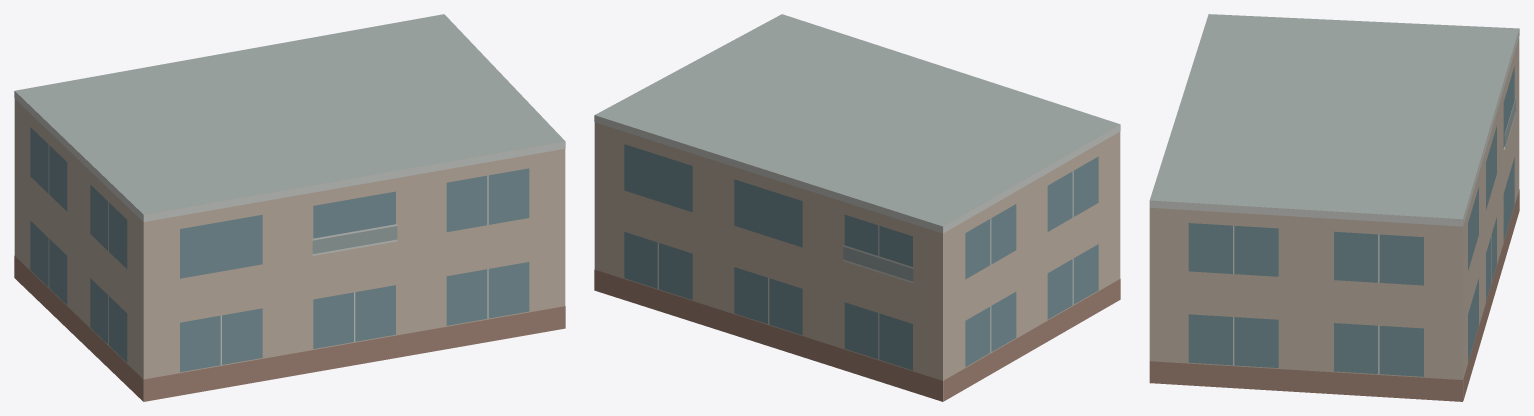
File: survey-upis-32958127.glb
3 renders of one model, left to right at view 1: azimuth 30°, elevation 25°; view 2: azimuth 150°, elevation 25°; view 3: azimuth 270°, elevation 25°, orthographic. The views are drawn at different scales.
Parts seen in each view (by area): view 1: survey-upis-32958127.tmp; view 2: survey-upis-32958127.tmp; view 3: survey-upis-32958127.tmp.
Boxes of the visible parts, x1=… form: survey-upis-32958127.tmp: x1=14, y1=14, x2=565, y2=401; survey-upis-32958127.tmp: x1=594, y1=14, x2=1120, y2=401; survey-upis-32958127.tmp: x1=1149, y1=14, x2=1519, y2=401.
Bounding box in the file's own units: 14.71 × 6.1 × 11.21.
